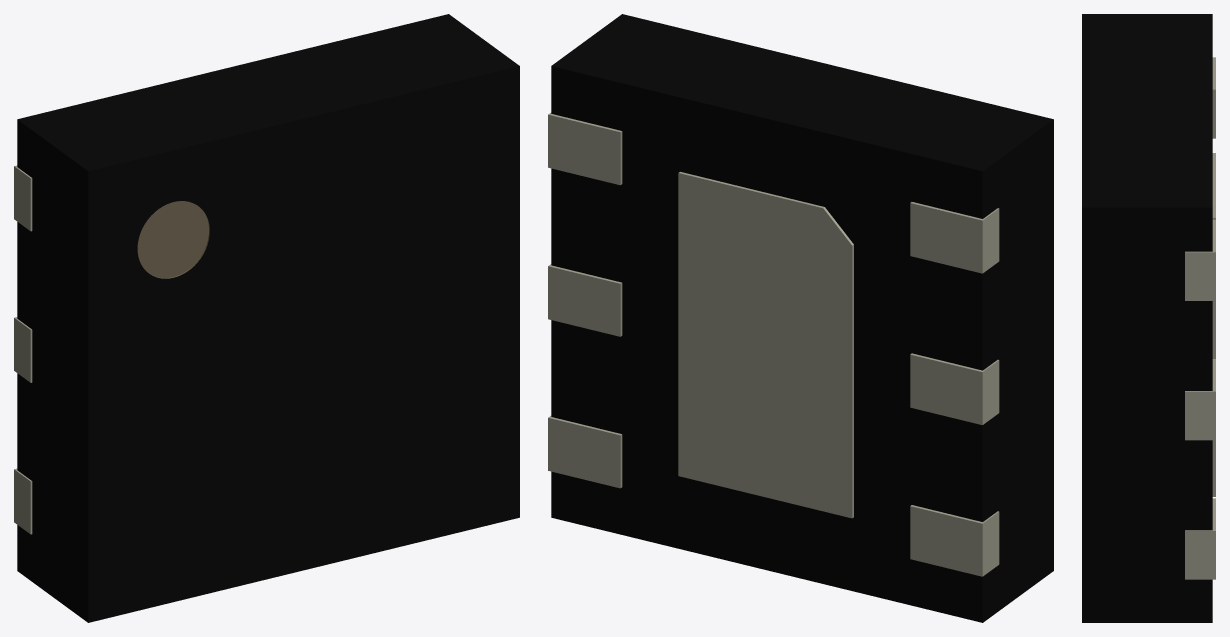
The model's file is triangulated.obj.
The picture shows the model from 3 angles, left to right: view 1: azimuth 30°, elevation 25°; view 2: azimuth 150°, elevation 25°; view 3: azimuth 270°, elevation 25°; orthographic projection. The views are drawn at different scales.
Size of the model in its own units: 3 by 2.98 by 0.87.
